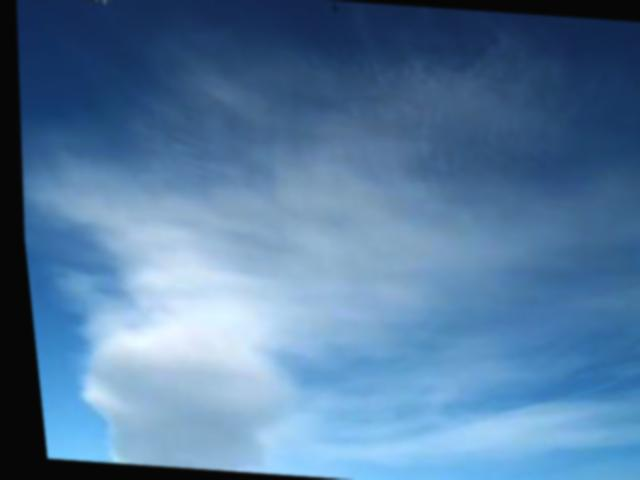uav: (324, 0, 344, 18)
